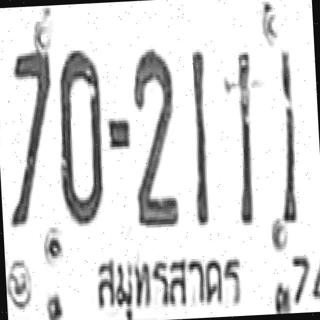N00: (54, 48, 107, 226)
N01: (220, 49, 260, 203), (220, 48, 259, 188), (188, 48, 212, 204), (276, 48, 299, 206), (188, 48, 212, 190), (278, 48, 298, 194)
N02: (129, 48, 180, 213), (130, 47, 178, 201)
N07: (2, 39, 59, 227)
P58: (91, 240, 249, 320)
